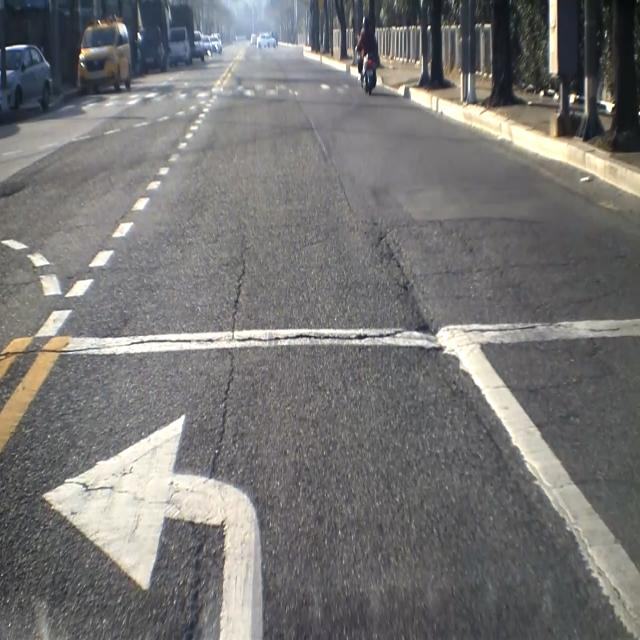Pothole: (374, 220, 434, 332)
